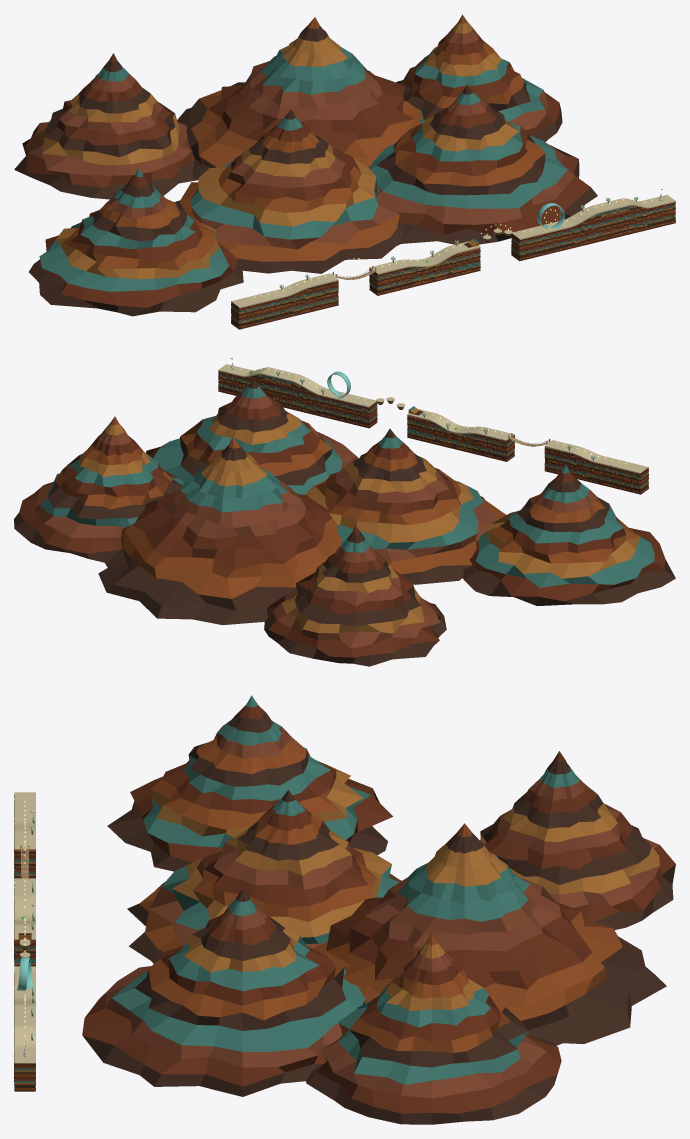
The model's file is nivel3.glb.
The picture shows the model from 3 angles, top to bottom: view 1: azimuth 30°, elevation 25°; view 2: azimuth 150°, elevation 25°; view 3: azimuth 270°, elevation 25°; orthographic projection. The views are drawn at different scales.
Visible parts, largest first — view 1: SM_Fondo_Cerro.002, SM_Fondo_Cerro.004, SM_Fondo_Cerro, SM_Fondo_Cerro.003, SM_Fondo_Cerro.001, SM_Fondo_Cerro.005, SM_Tramo_C, SM_Tramo_A, SM_Tramo_B, SM_Tramo_C_Pasto, SM_Tramo_A_Pasto, SM_Tramo_B_Pasto; view 2: SM_Fondo_Cerro.003, SM_Fondo_Cerro, SM_Fondo_Cerro.002, SM_Fondo_Cerro.001, SM_Fondo_Cerro.005, SM_Fondo_Cerro.004, SM_Tramo_C, SM_Tramo_A, SM_Tramo_B, SM_Tramo_C_Pasto, SM_Tramo_A_Pasto, SM_Tramo_B_Pasto; view 3: SM_Fondo_Cerro.003, SM_Fondo_Cerro.004, SM_Fondo_Cerro.005, SM_Fondo_Cerro, SM_Fondo_Cerro.002, SM_Fondo_Cerro.001, SM_Tramo_C_Pasto, SM_Tramo_A_Pasto, SM_Tramo_B_Pasto, SM_Tramo_C.
Boxes of the visible parts, left/top/right/bottom form: SM_Fondo_Cerro.002: left=174, top=109, right=403, bottom=273; SM_Fondo_Cerro.004: left=368, top=85, right=597, bottom=244; SM_Fondo_Cerro: left=29, top=168, right=243, bottom=316; SM_Fondo_Cerro.003: left=177, top=17, right=422, bottom=179; SM_Fondo_Cerro.001: left=14, top=53, right=197, bottom=199; SM_Fondo_Cerro.005: left=396, top=14, right=562, bottom=141; SM_Tramo_C: left=511, top=202, right=675, bottom=261; SM_Tramo_A: left=231, top=281, right=338, bottom=329; SM_Tramo_B: left=369, top=248, right=480, bottom=295; SM_Tramo_C_Pasto: left=512, top=194, right=675, bottom=239; SM_Tramo_A_Pasto: left=231, top=273, right=338, bottom=308; SM_Tramo_B_Pasto: left=369, top=241, right=480, bottom=274; SM_Fondo_Cerro.003: left=98, top=437, right=341, bottom=625; SM_Fondo_Cerro: left=463, top=465, right=675, bottom=605; SM_Fondo_Cerro.002: left=306, top=428, right=506, bottom=584; SM_Fondo_Cerro.001: left=264, top=525, right=446, bottom=666; SM_Fondo_Cerro.005: left=14, top=416, right=184, bottom=562; SM_Fondo_Cerro.004: left=146, top=379, right=358, bottom=494; SM_Tramo_C: left=218, top=371, right=377, bottom=428; SM_Tramo_A: left=544, top=447, right=648, bottom=494; SM_Tramo_B: left=407, top=415, right=514, bottom=461; SM_Tramo_C_Pasto: left=218, top=364, right=376, bottom=407; SM_Tramo_A_Pasto: left=544, top=440, right=648, bottom=473; SM_Tramo_B_Pasto: left=407, top=409, right=514, bottom=441; SM_Fondo_Cerro.003: left=313, top=823, right=666, bottom=1045; SM_Fondo_Cerro.004: left=82, top=889, right=365, bottom=1096; SM_Fondo_Cerro.005: left=306, top=933, right=561, bottom=1124; SM_Fondo_Cerro: left=107, top=695, right=392, bottom=871; SM_Fondo_Cerro.002: left=127, top=790, right=401, bottom=963; SM_Fondo_Cerro.001: left=480, top=751, right=675, bottom=929; SM_Tramo_C_Pasto: left=14, top=966, right=35, bottom=1063; SM_Tramo_A_Pasto: left=14, top=792, right=35, bottom=849; SM_Tramo_B_Pasto: left=14, top=878, right=35, bottom=939; SM_Tramo_C: left=14, top=970, right=35, bottom=1091.
Bounding box in the file's own units: 329 × 69.49 × 254.
